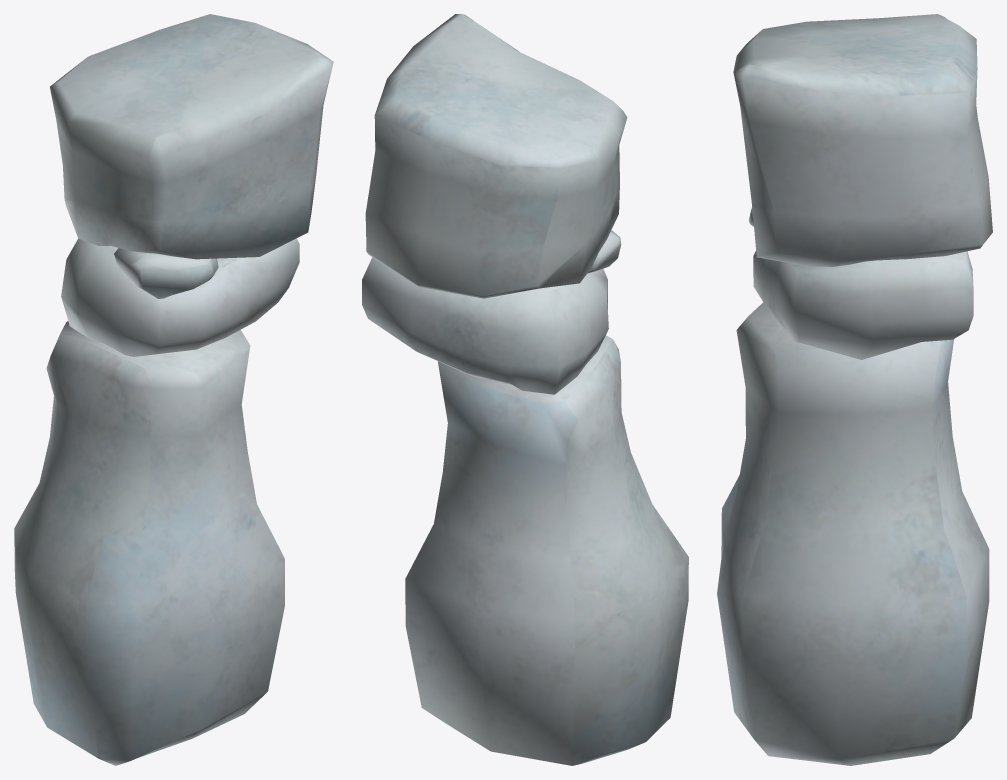
The model's file is P_RockDesert_Hoodoo11.obj.
3 views of the same model, side by side, from view 1: azimuth 30°, elevation 25°; view 2: azimuth 150°, elevation 25°; view 3: azimuth 270°, elevation 25° (orthographic). The views are drawn at different scales.
Bounding box in the file's own units: 6.73 × 16.37 × 5.43.
